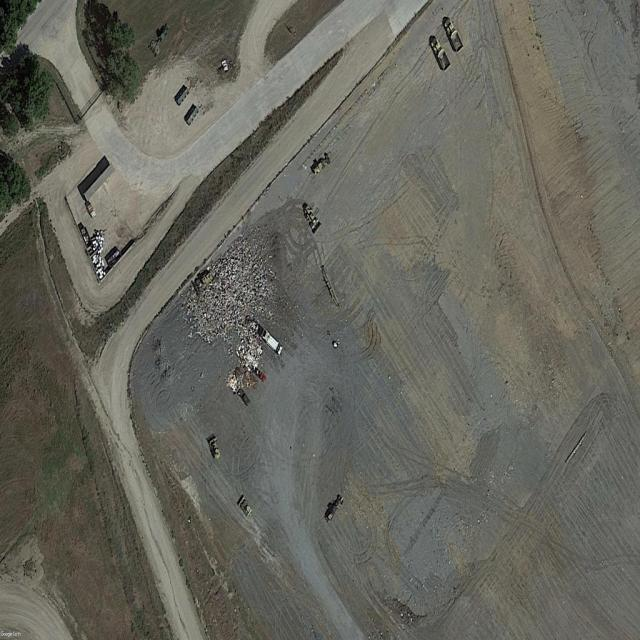dump_site: (176, 227, 309, 417)
